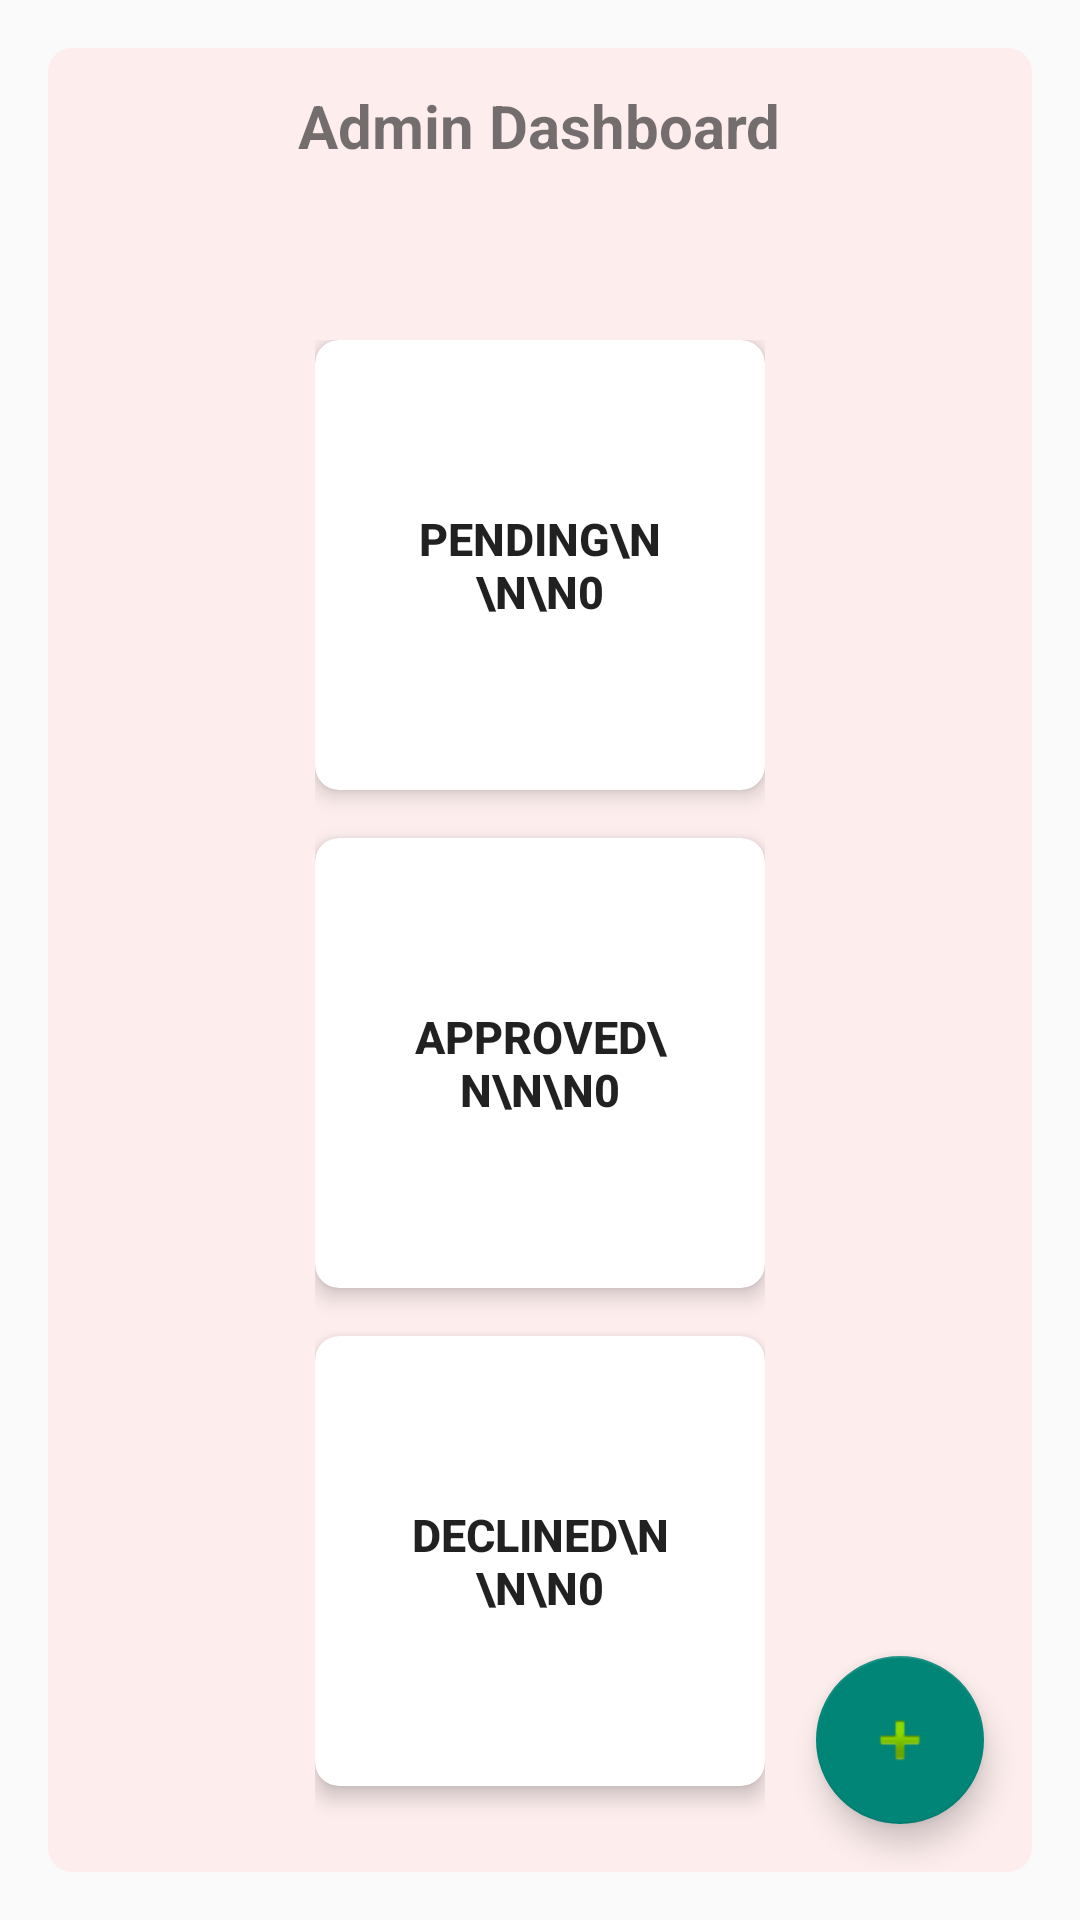

Named icons in this screenshot (1080 x 1920) and their centers, point (x, y):
Add new word and meaning: point (900, 1740)
